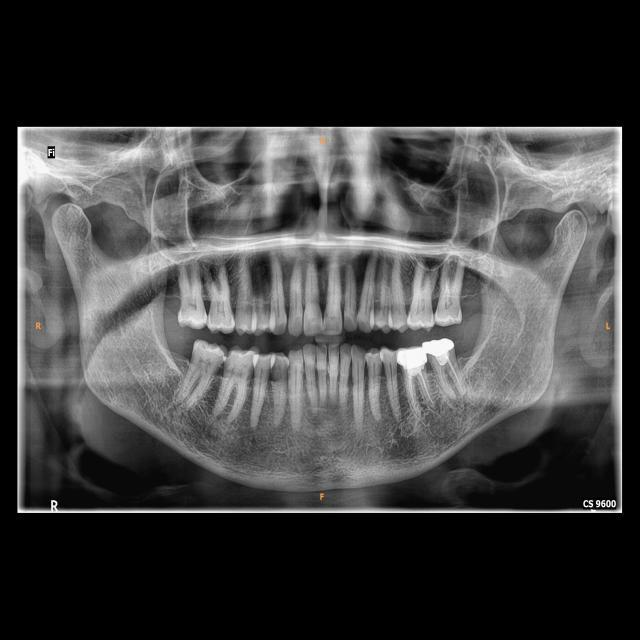kanal-tedavisi: (402, 366, 435, 408), (434, 357, 465, 399)
kaplama: (394, 341, 430, 374), (424, 336, 458, 364)
